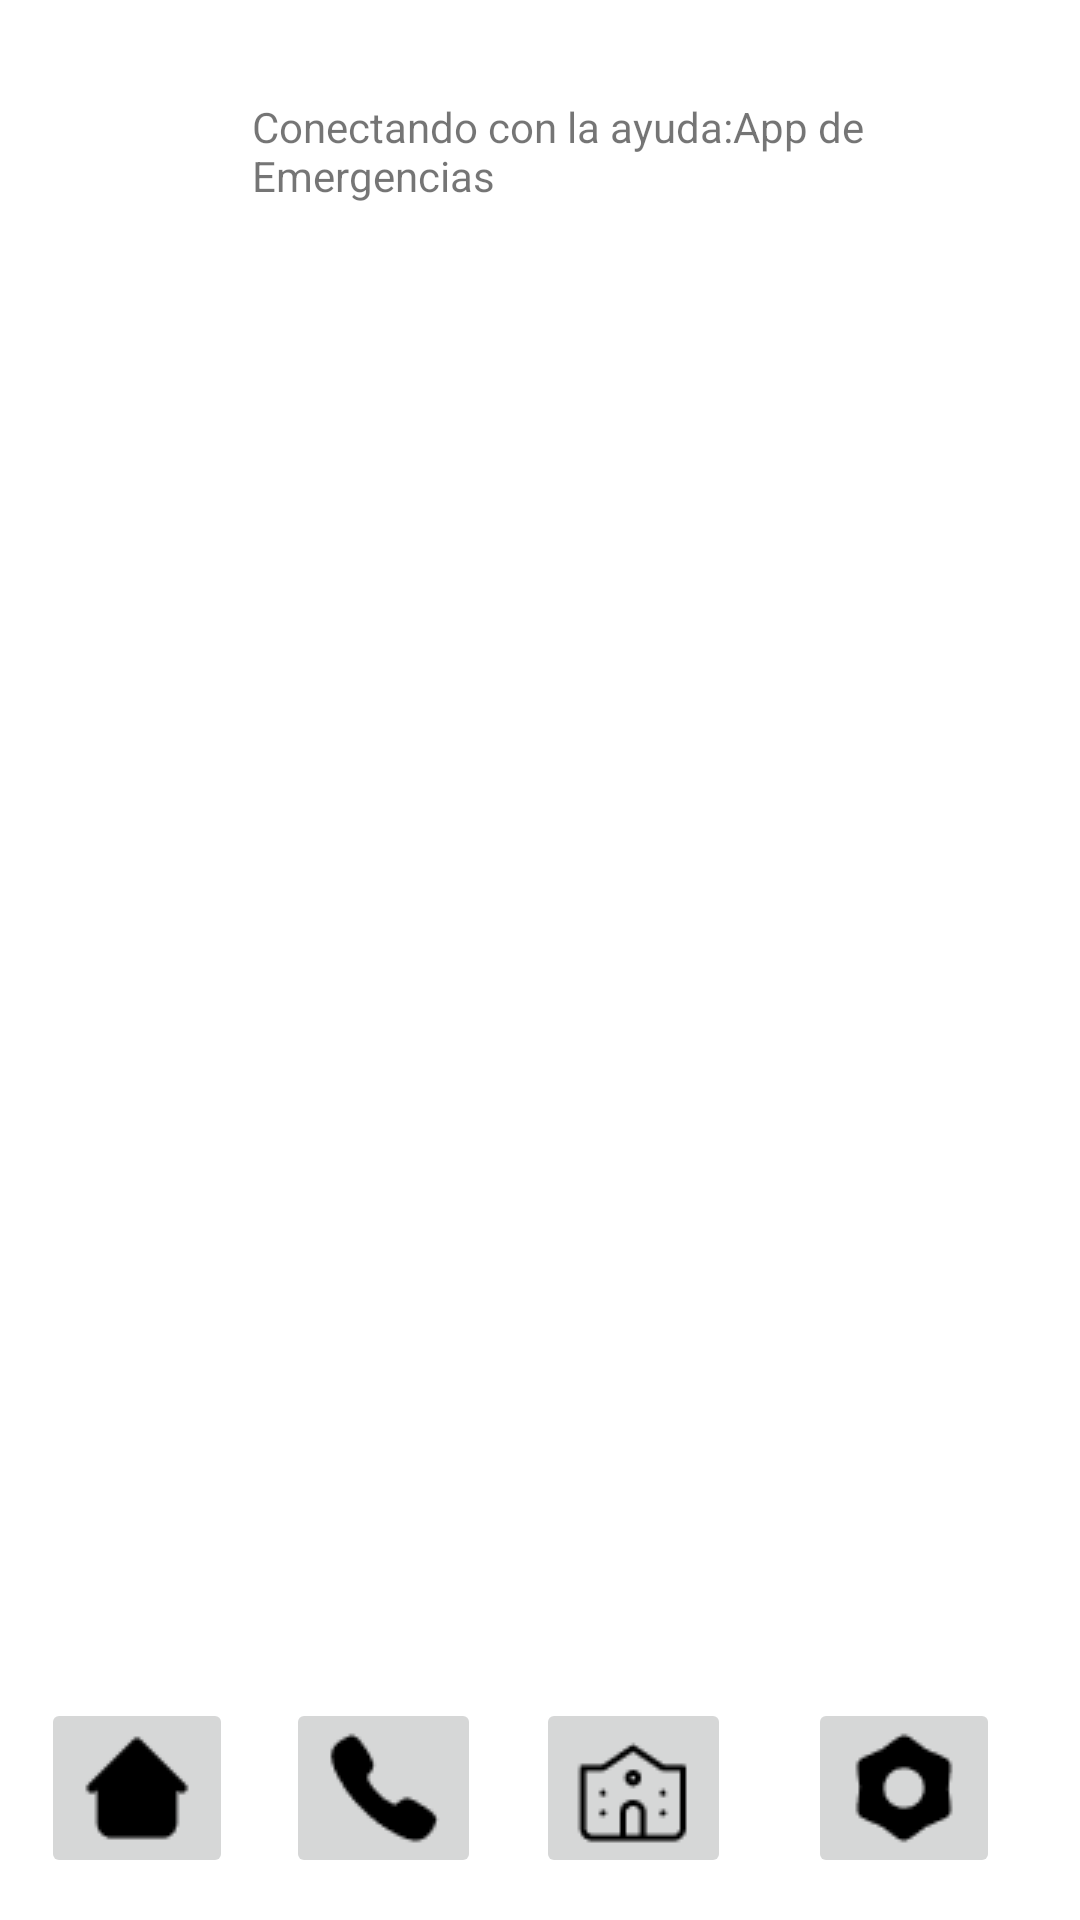

Screen size 1080*1920. Icon name, then its box in pixels as (x1, y1, x2, y2):
iconamoon home: (53, 1716, 221, 1860)
ion call: (298, 1716, 469, 1860)
lucide university: (548, 1716, 719, 1860)
setting: (820, 1716, 988, 1860)
